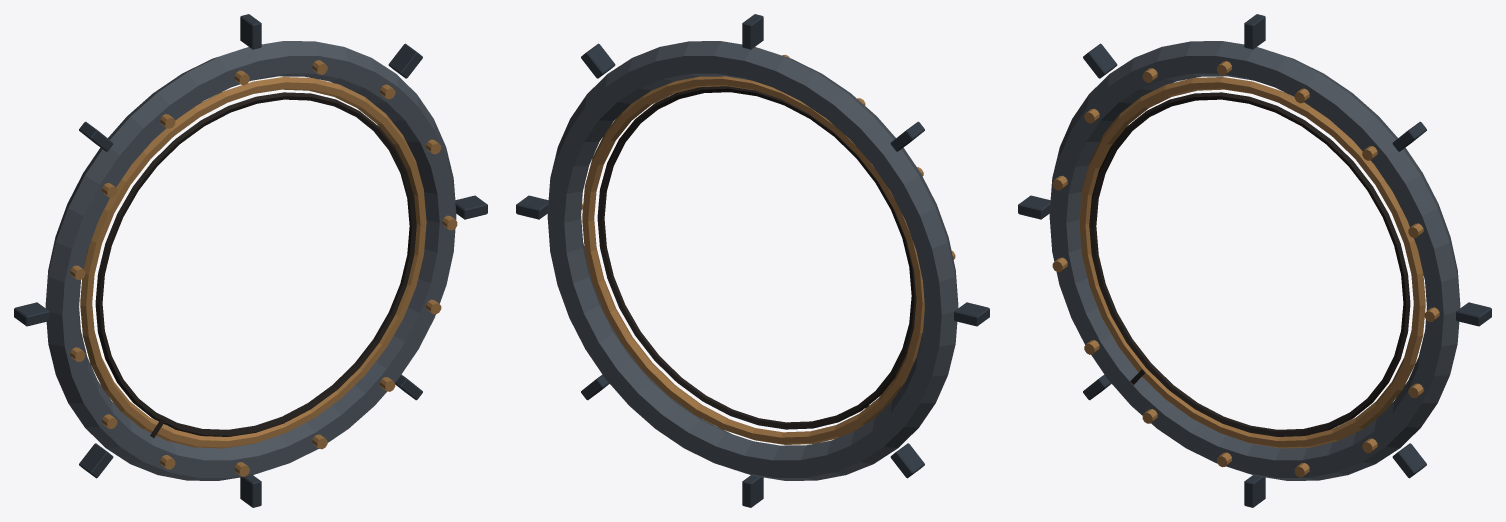
File: runtime.glb
3 views of the same model, side by side, from view 1: azimuth 30°, elevation 25°; view 2: azimuth 150°, elevation 25°; view 3: azimuth 330°, elevation 25° (orthographic).
Visible parts, largest first — view 1: kinetic-tide-bearing-flange-v09_plate_nocol, kinetic-tide-bearing-flange-v09_bronze_nocol, kinetic-tide-bearing-flange-v09_weardark_nocol, kinetic-tide-bearing-flange-v09_steel_nocol; view 2: kinetic-tide-bearing-flange-v09_plate_nocol, kinetic-tide-bearing-flange-v09_bronze_nocol, kinetic-tide-bearing-flange-v09_weardark_nocol, kinetic-tide-bearing-flange-v09_steel_nocol; view 3: kinetic-tide-bearing-flange-v09_plate_nocol, kinetic-tide-bearing-flange-v09_bronze_nocol, kinetic-tide-bearing-flange-v09_weardark_nocol, kinetic-tide-bearing-flange-v09_steel_nocol.
Boxes of the visible parts, x1,y1,x2,y2 form: kinetic-tide-bearing-flange-v09_plate_nocol: (45, 41, 456, 480); kinetic-tide-bearing-flange-v09_bronze_nocol: (70, 60, 457, 476); kinetic-tide-bearing-flange-v09_weardark_nocol: (95, 92, 416, 437); kinetic-tide-bearing-flange-v09_steel_nocol: (14, 14, 487, 507); kinetic-tide-bearing-flange-v09_plate_nocol: (547, 41, 958, 480); kinetic-tide-bearing-flange-v09_bronze_nocol: (581, 54, 955, 444); kinetic-tide-bearing-flange-v09_weardark_nocol: (597, 86, 916, 429); kinetic-tide-bearing-flange-v09_steel_nocol: (516, 14, 989, 507); kinetic-tide-bearing-flange-v09_plate_nocol: (1049, 41, 1460, 480); kinetic-tide-bearing-flange-v09_bronze_nocol: (1052, 61, 1439, 477); kinetic-tide-bearing-flange-v09_weardark_nocol: (1089, 92, 1410, 436); kinetic-tide-bearing-flange-v09_steel_nocol: (1018, 14, 1491, 507).
Size of the model in its own units: 11.46 by 11.46 by 0.9296.
